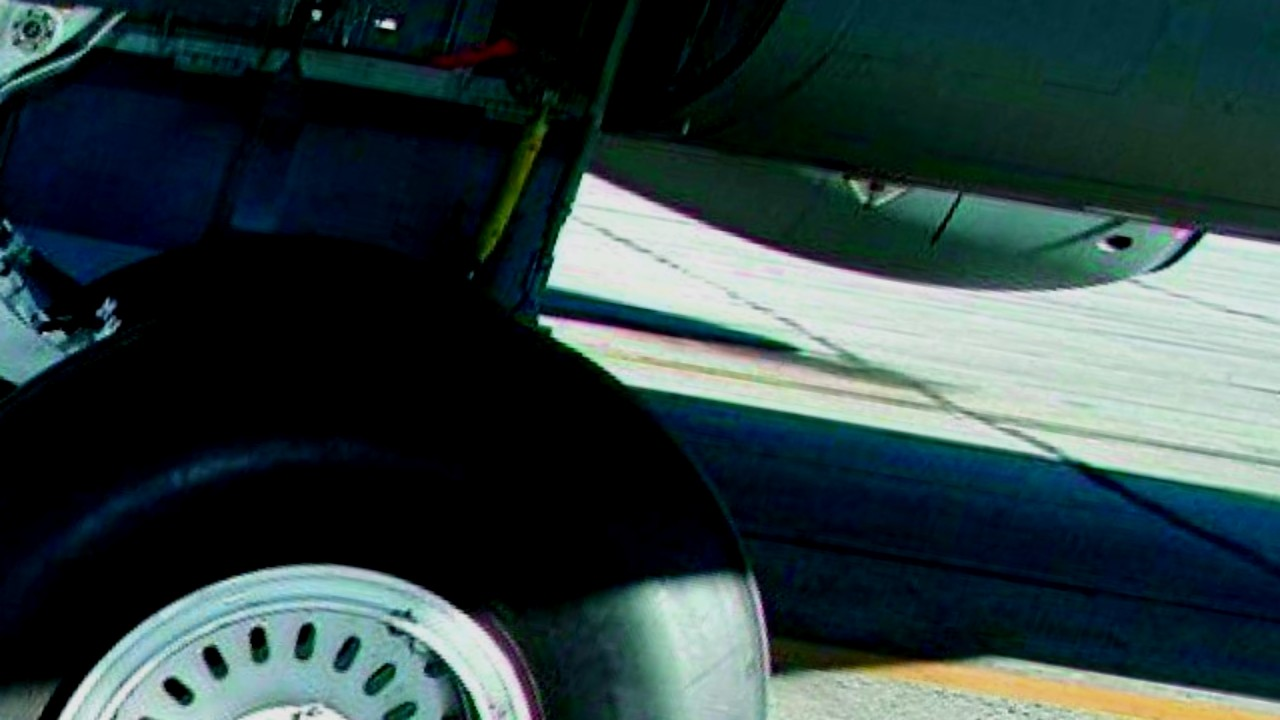wheel: (0, 196, 892, 720), (53, 189, 515, 384)
